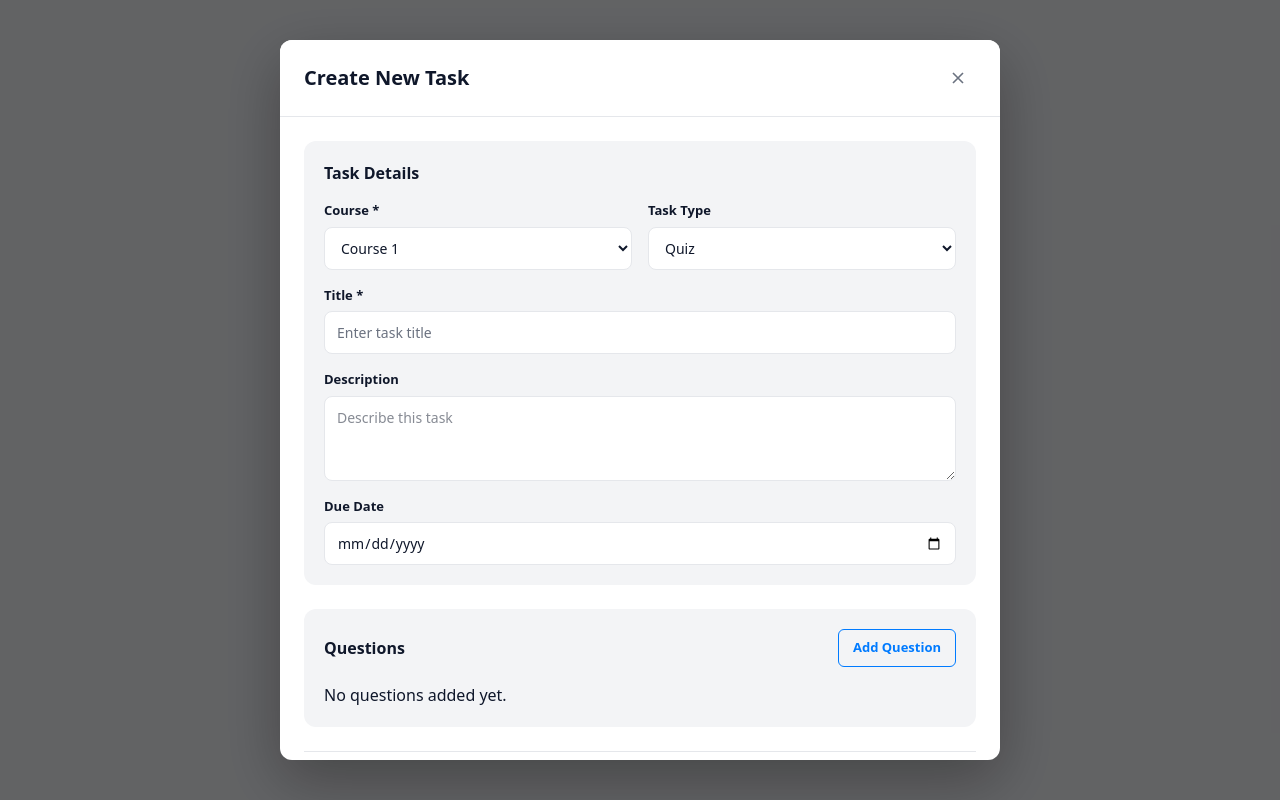
AddTask.tsx coverage-focused tests › remove question works after adding
Click the button "Add Question". click: (897, 648)
box: [838,629,956,666]
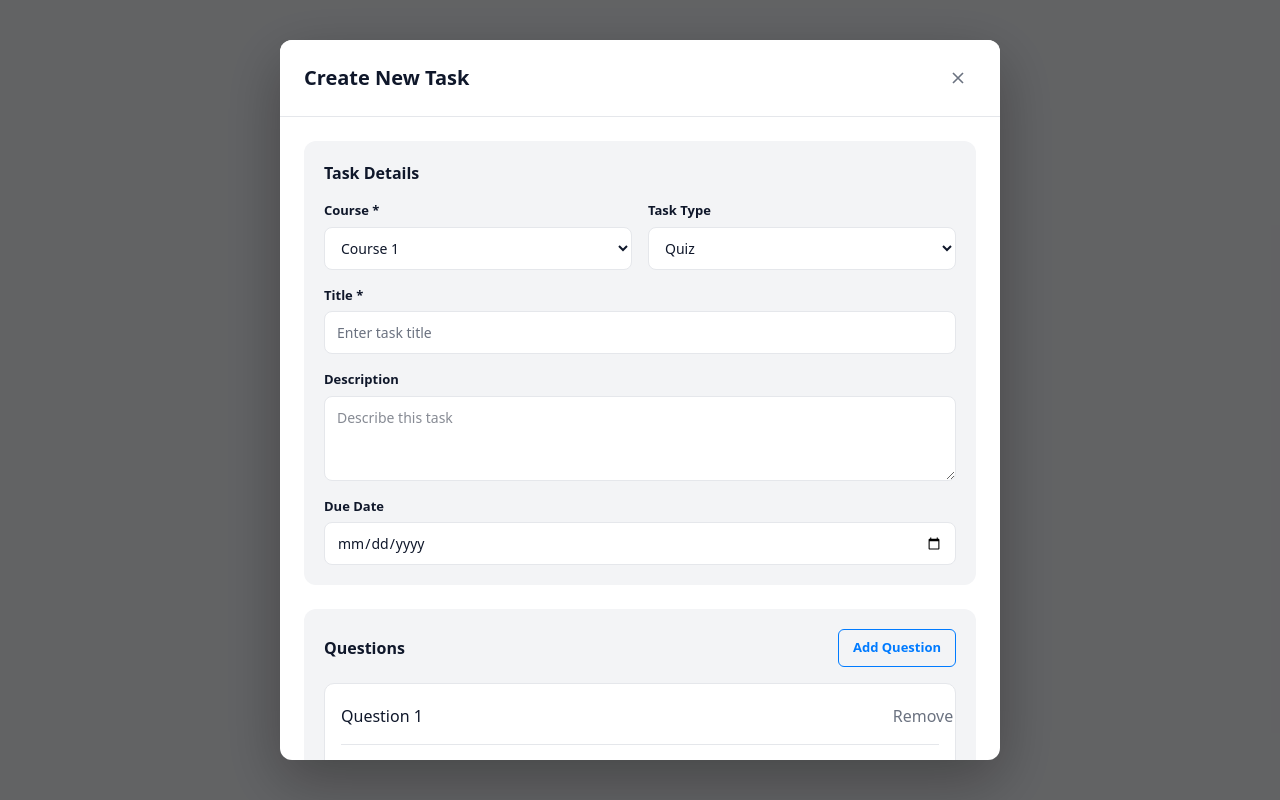
Check: the button with class "remove-question-btn" is shown
Click the button with class "remove-question-btn". click: (923, 716)
box: [907,700,939,732]
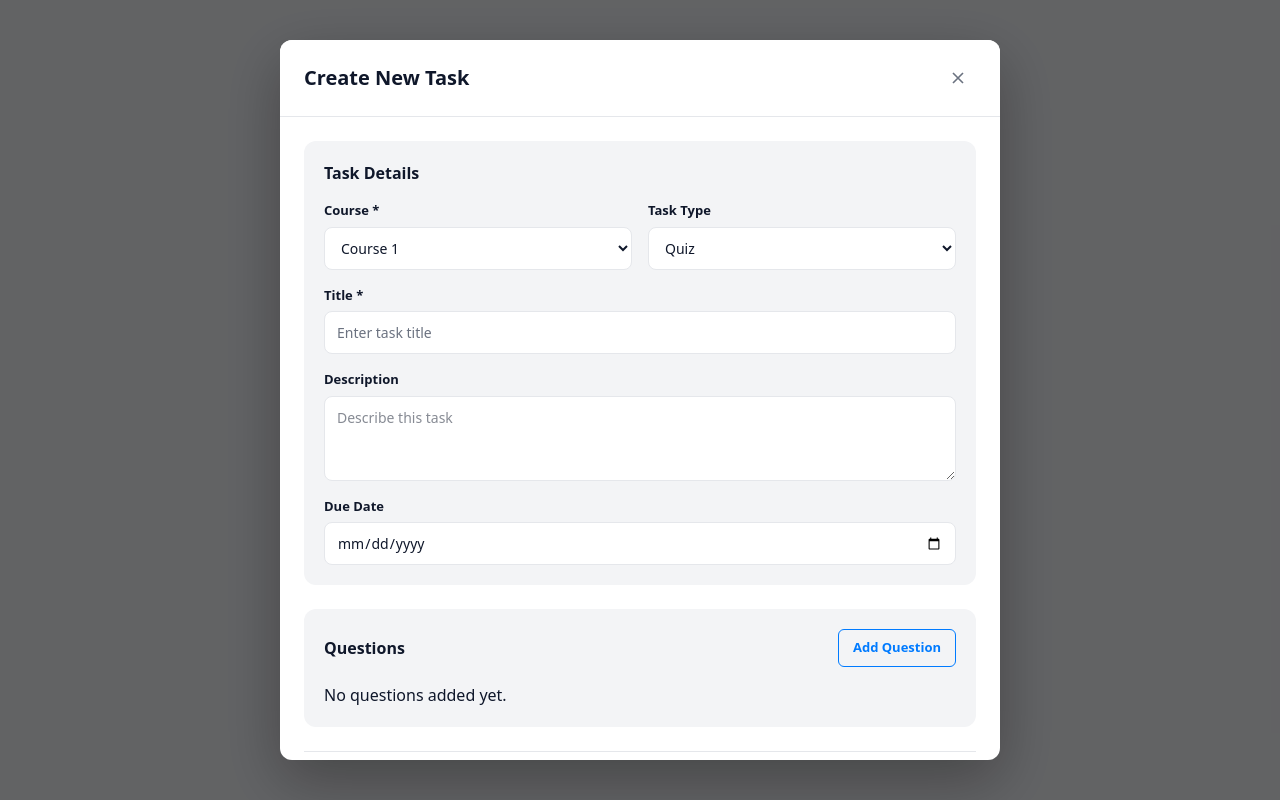
Check: the text "No questions added yet." is shown, box [324,684,507,706]
